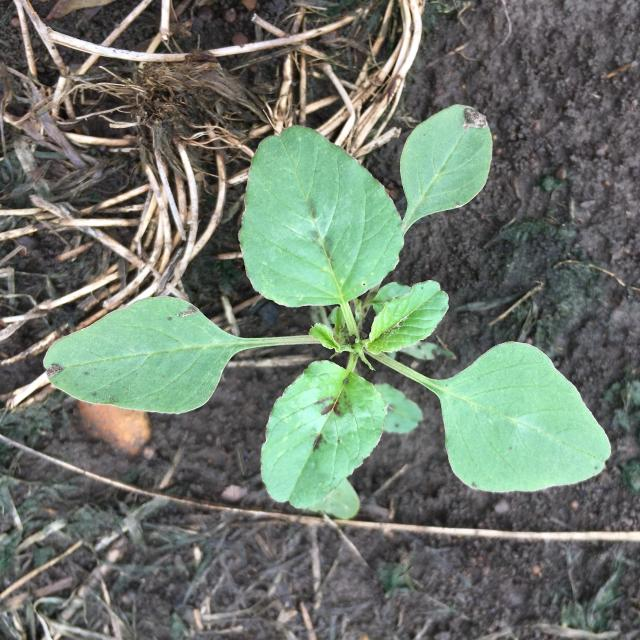PalmerAmaranth: (44, 103, 612, 520)
